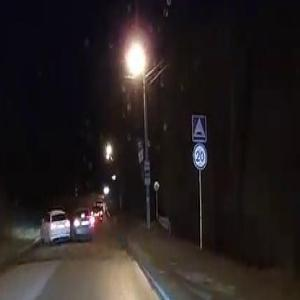significant: (41, 199, 95, 250)
